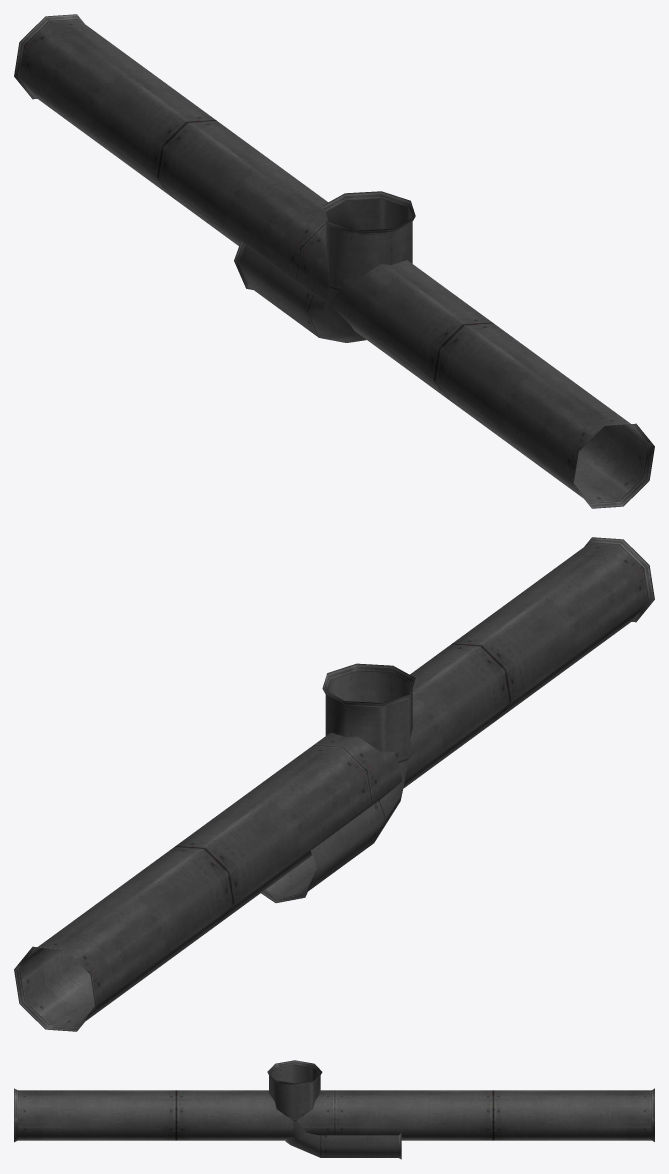
File: pipe.fbx
3 views of the same model, one above another, from view 1: azimuth 30°, elevation 25°; view 2: azimuth 150°, elevation 25°; view 3: azimuth 270°, elevation 25° (orthographic). The views are drawn at different scales.
Parts seen in each view (by area): view 1: ControlRoom_Pipe_1, IS4_P1_Antesala_Tuberia_1; view 2: ControlRoom_Pipe_1, IS4_P1_Antesala_Tuberia_1; view 3: ControlRoom_Pipe_1, IS4_P1_Antesala_Tuberia_1.
Part boxes in pixels (x1=…): ControlRoom_Pipe_1: x1=14, y1=14, x2=654, y2=508; IS4_P1_Antesala_Tuberia_1: x1=234, y1=191, x2=415, y2=342; ControlRoom_Pipe_1: x1=14, y1=537, x2=654, y2=1031; IS4_P1_Antesala_Tuberia_1: x1=261, y1=663, x2=415, y2=903; ControlRoom_Pipe_1: x1=14, y1=1088, x2=654, y2=1142; IS4_P1_Antesala_Tuberia_1: x1=267, y1=1060, x2=401, y2=1159.
Size of the model in its own units: 0.4836 by 0.8376 by 5.6.
